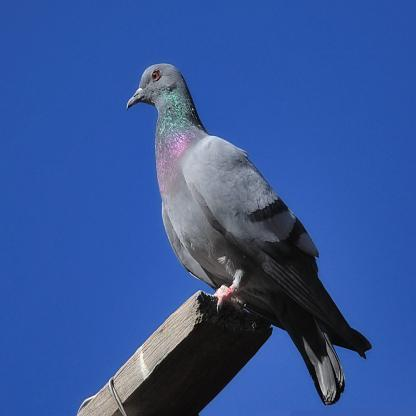Flying Rat: (124, 59, 372, 405)
